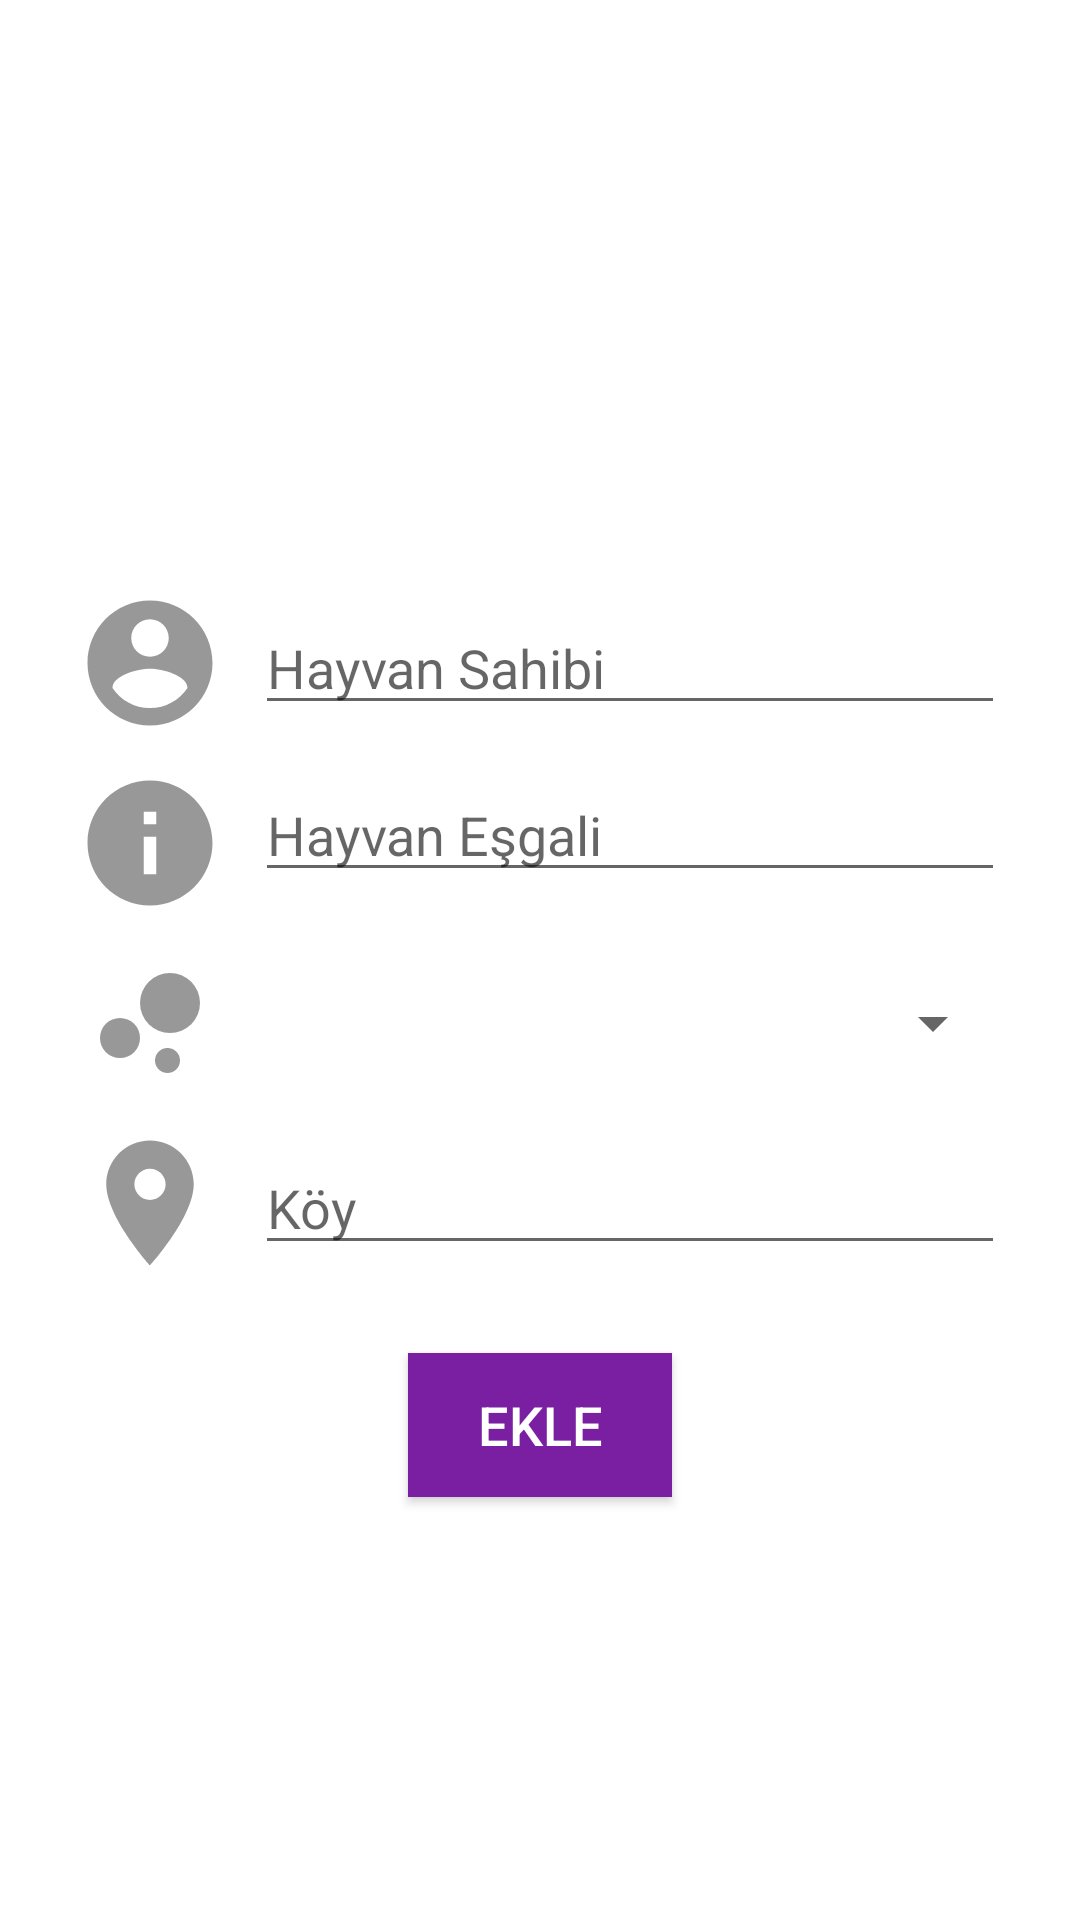

Icons on this 1080*1920 Android screen, each with the point to tap as point (x, y):
Atılan Tohum: point (150, 1023)
